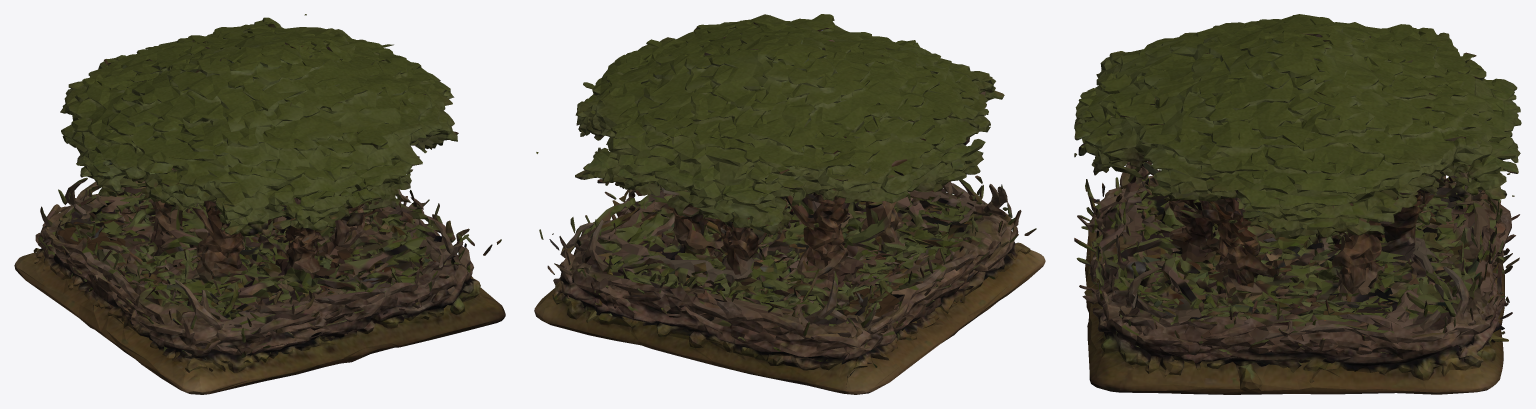
File: tree.glb
3 renders of one model, left to right at view 1: azimuth 30°, elevation 25°; view 2: azimuth 150°, elevation 25°; view 3: azimuth 270°, elevation 25°, orthographic. The views are drawn at different scales.
Parts seen in each view (by area): view 1: geometry_0_LOD0; view 2: geometry_0_LOD0; view 3: geometry_0_LOD0.
Part boxes in pixels (box(x1,y1,x2,y2)): geometry_0_LOD0: box(14, 14, 505, 394); geometry_0_LOD0: box(534, 14, 1045, 394); geometry_0_LOD0: box(1074, 14, 1521, 394).
Size of what is drawn, in the model's own units: 1.98 by 1.29 by 1.98.
Materials: 1 (1 with a texture image).
